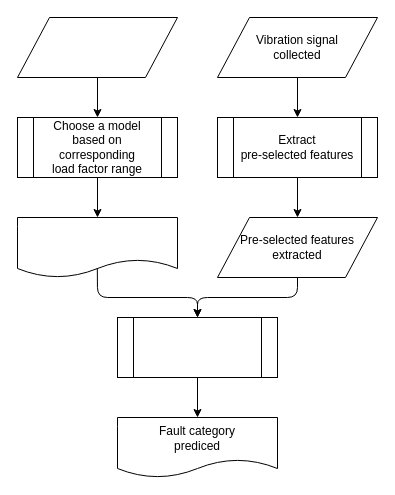
Image size: 395x495. Some labels were removed from this diagram. Here are the shapes that lost their labels. From the top down, the centre of each, then its label:
At pixel 97 47: "Load factor measured".
At pixel 97 247: "Model chosen, load factor range r".
At pixel 197 347: "Predict the fault category".
